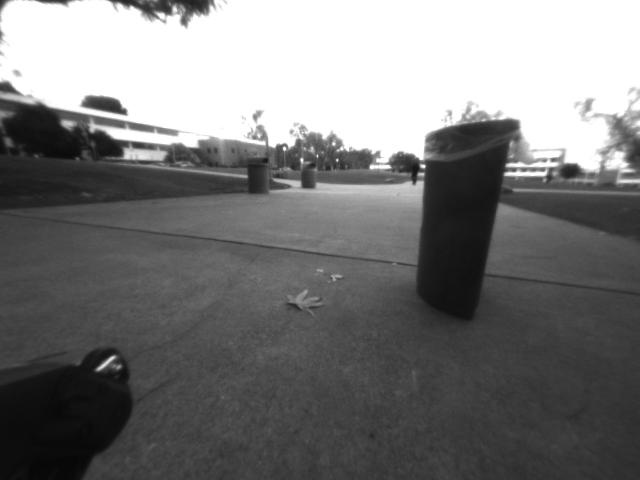trashcan_open: (411, 116, 518, 323)
